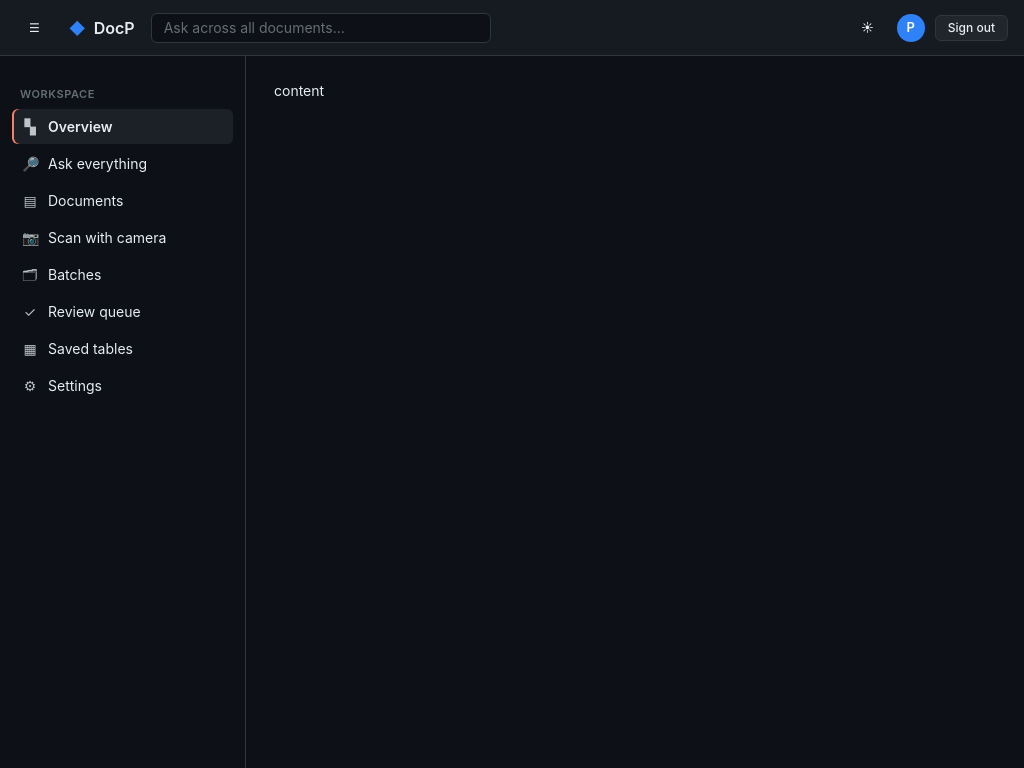
Test: the ☰ button opens the menu with every page (small screens)
Click the button named "Menu".
click(34, 28)  # box top-left (16, 14), bottom-right (53, 40)
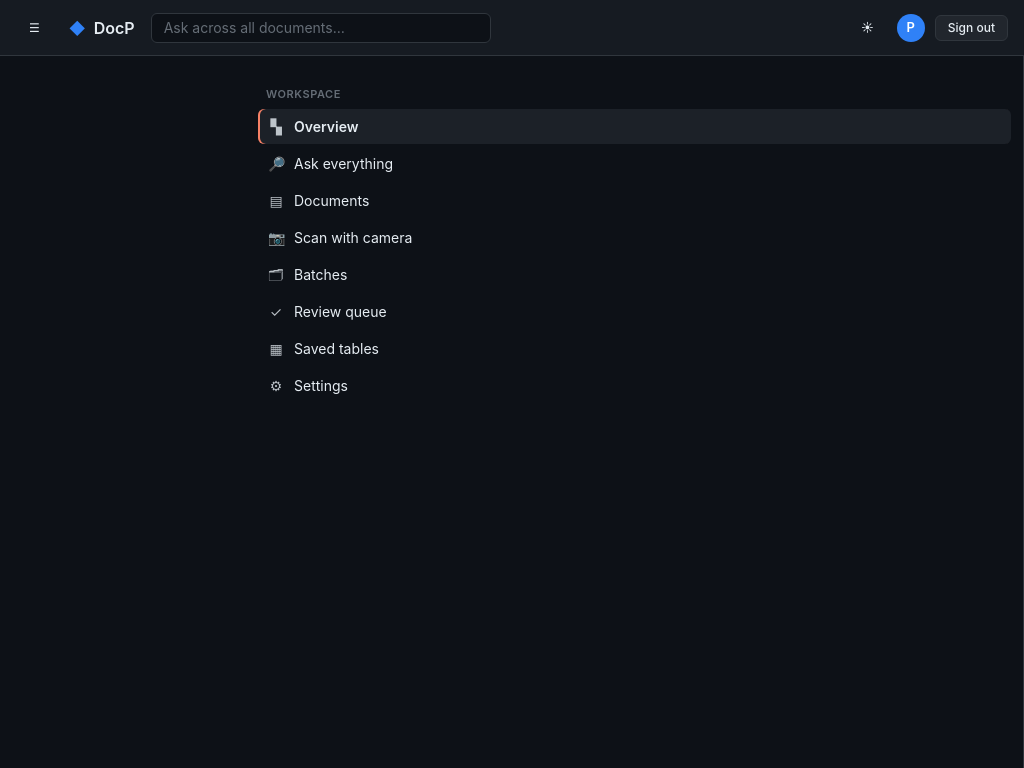
Expected: the link "▤ Documents" is shown, top-left (269, 192), bottom-right (369, 208)
Result: the element named "Main menu" has class "open"
